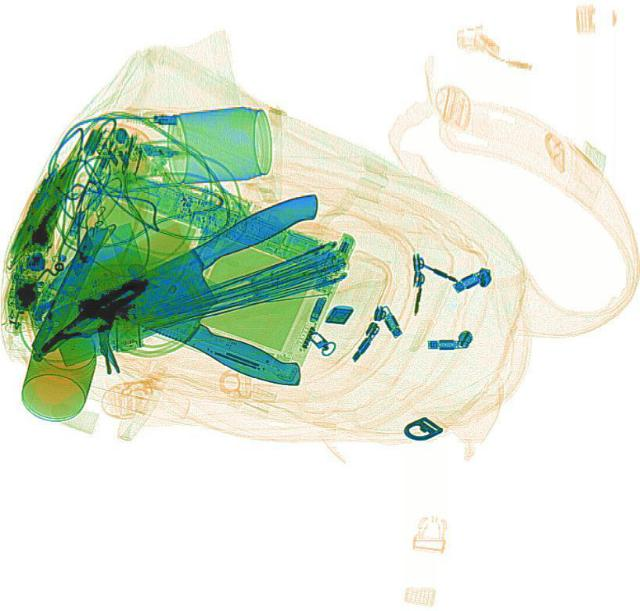Knife: (32, 186, 346, 371), (47, 221, 330, 396)
